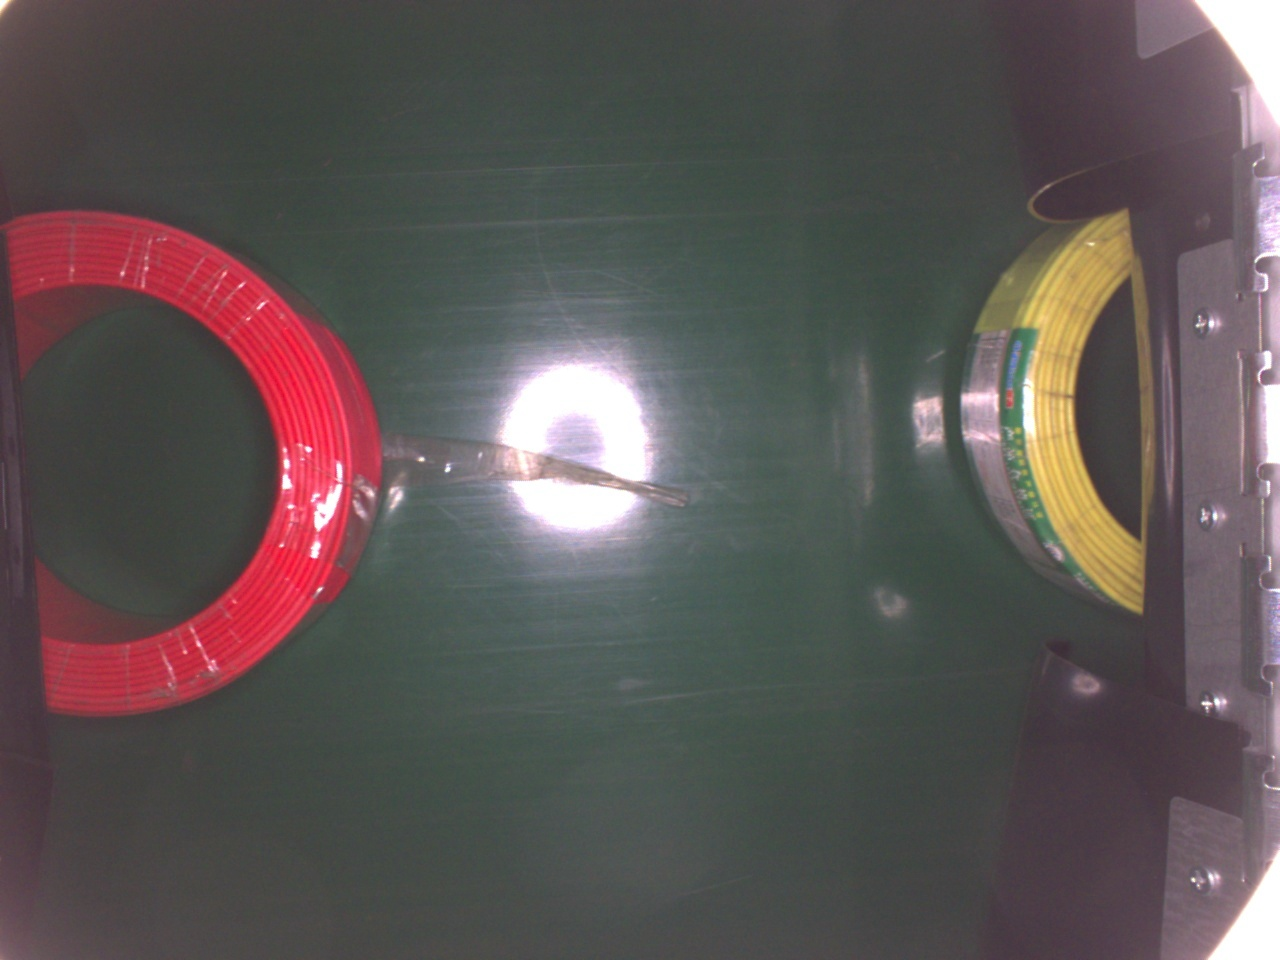red: (5, 206, 381, 719)
yellow: (958, 209, 1150, 616)
